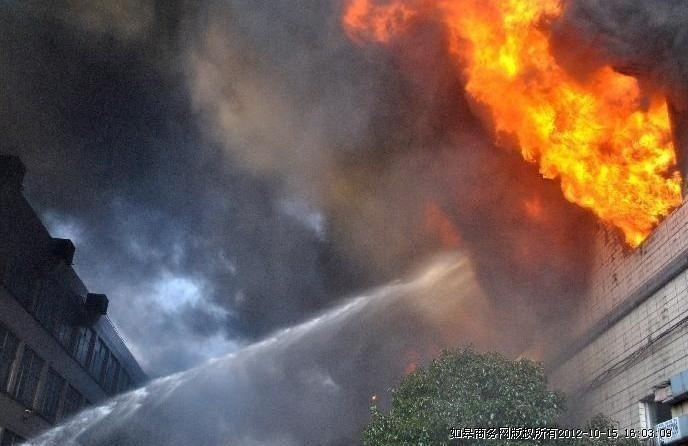fire: (359, 0, 685, 251)
